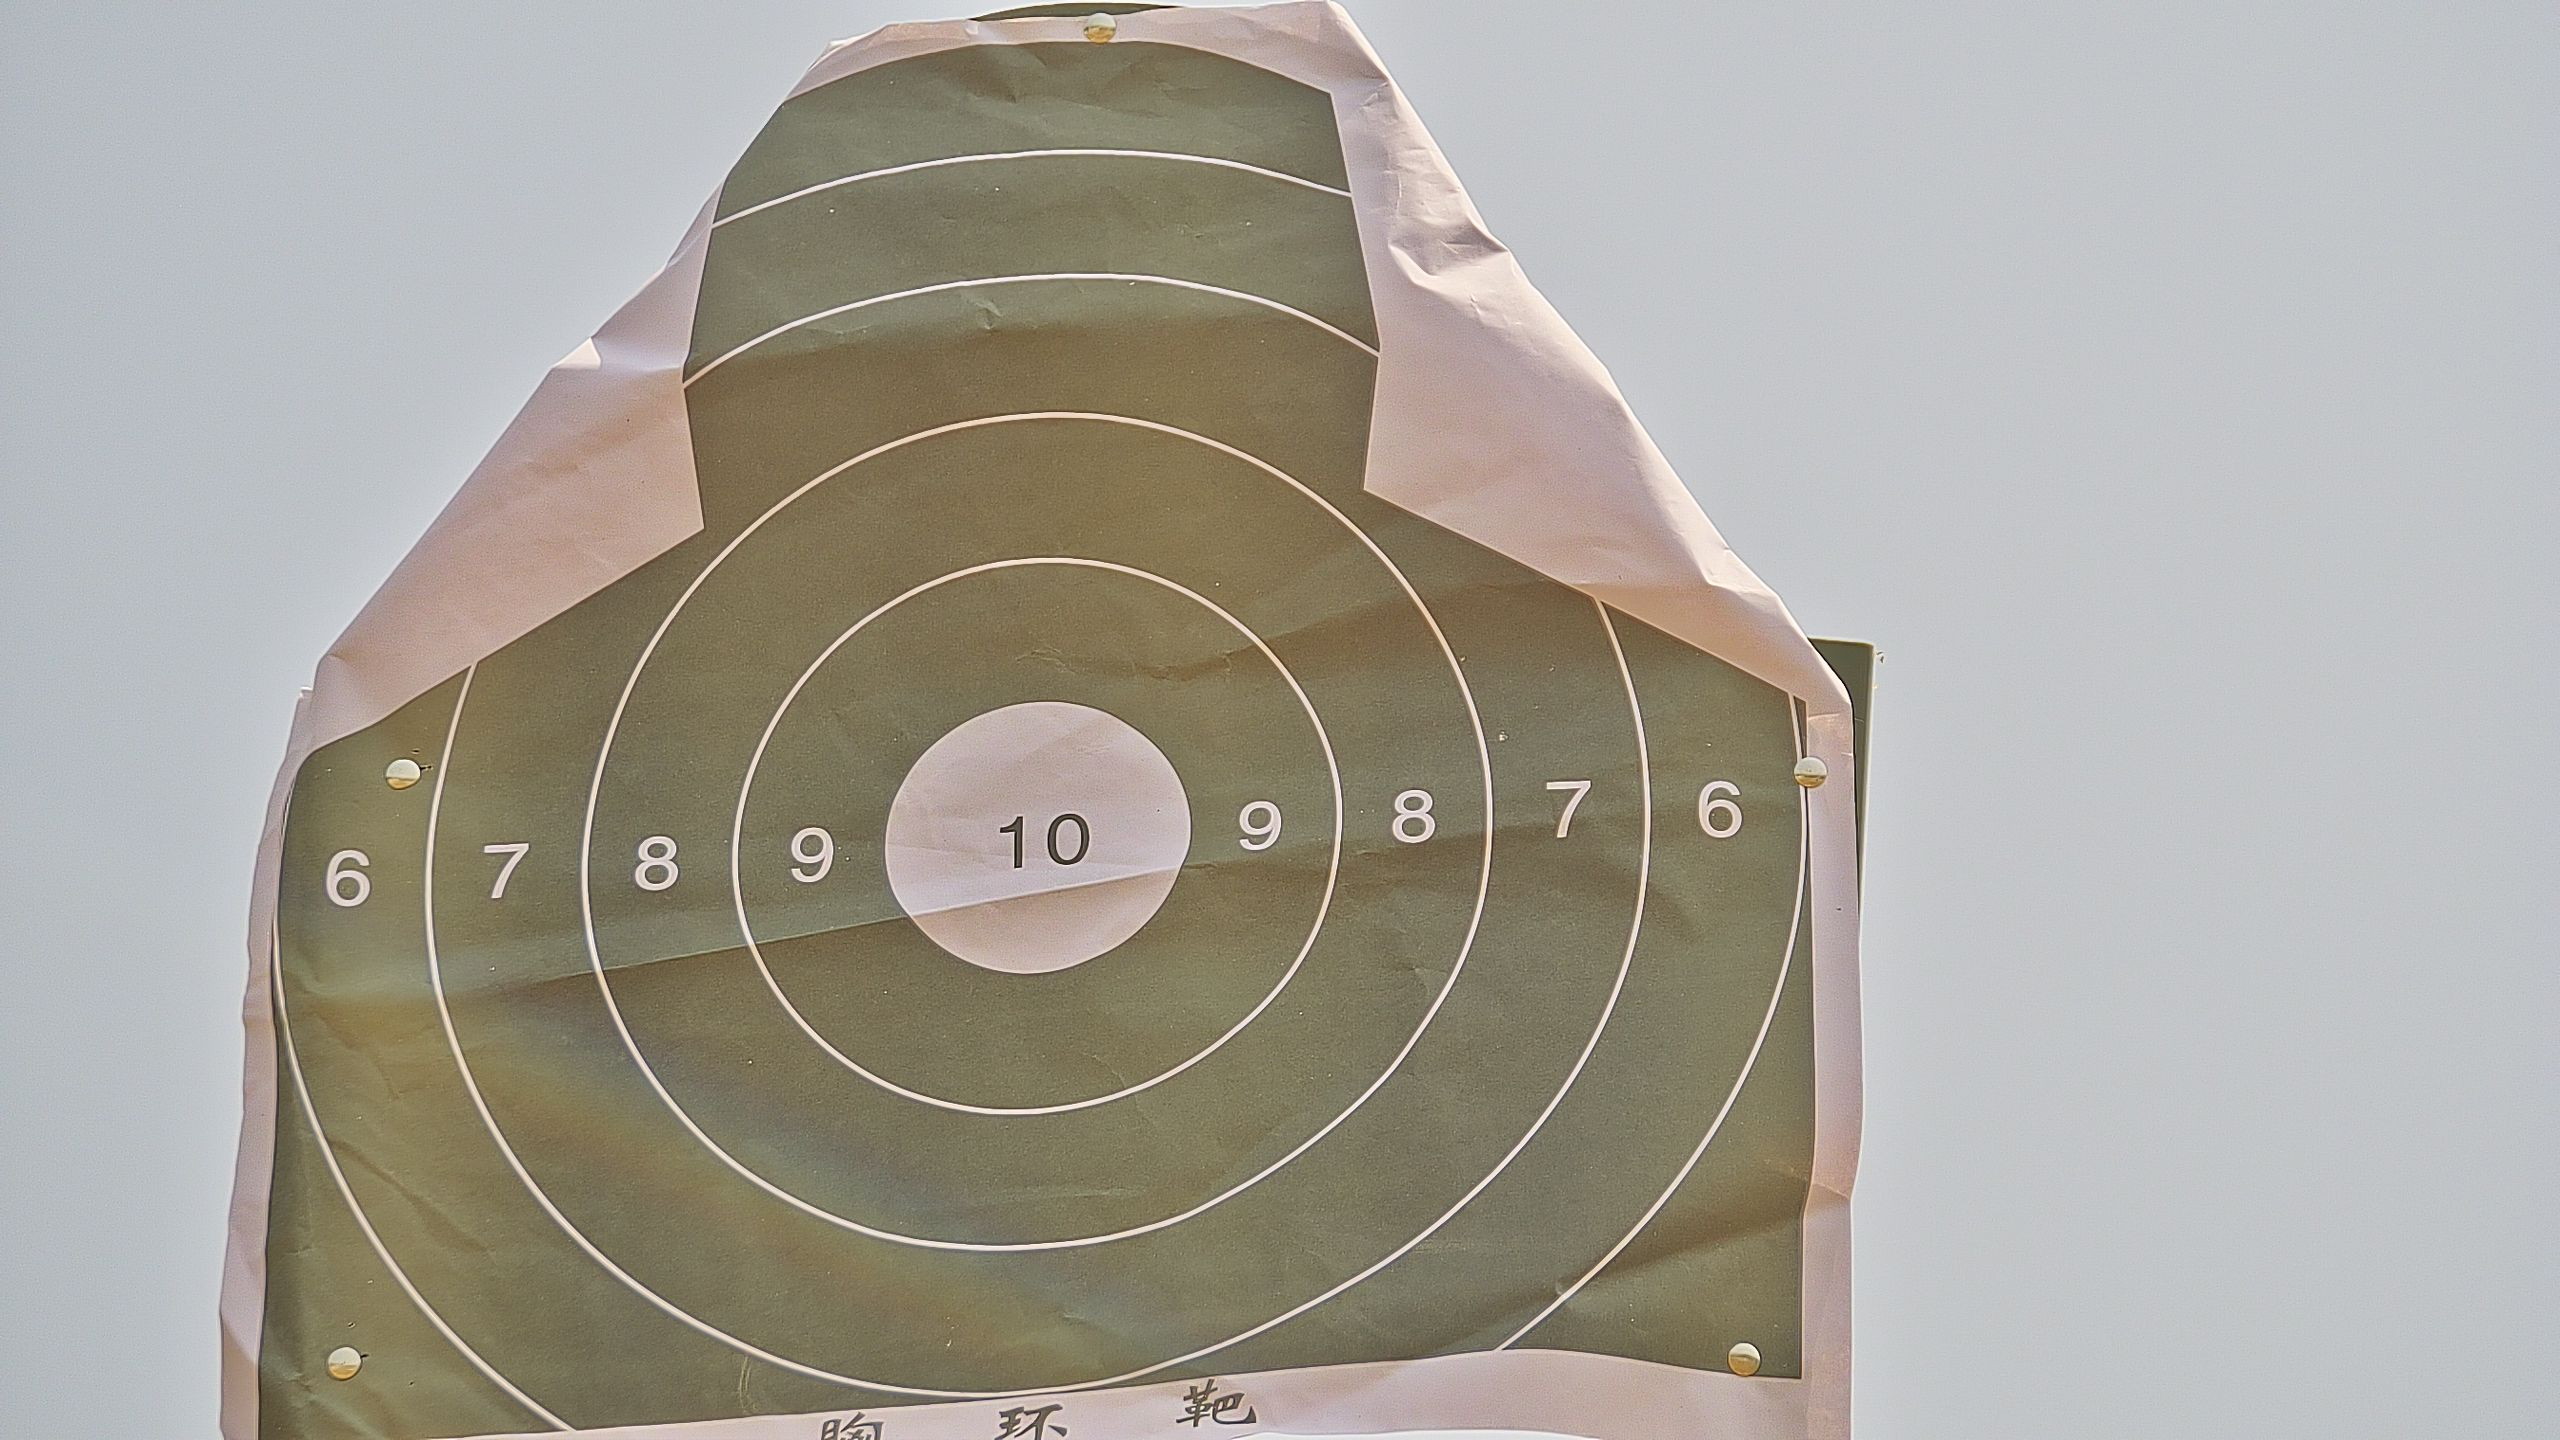target: (264, 49, 1816, 1440)
ten: (883, 696, 1190, 976)
